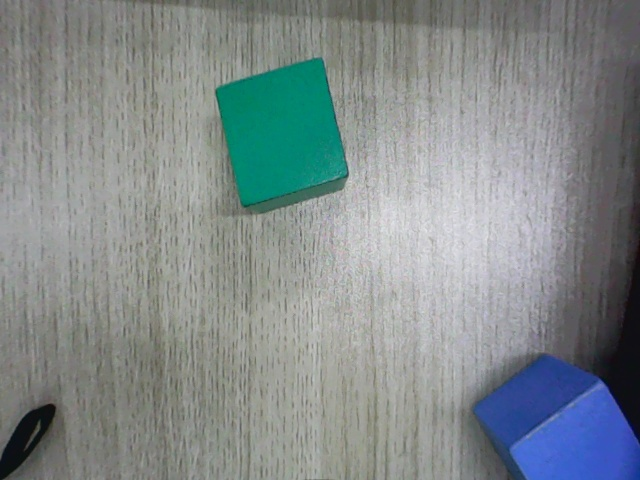upside of big cube: (214, 58, 348, 208), (510, 381, 639, 479)
